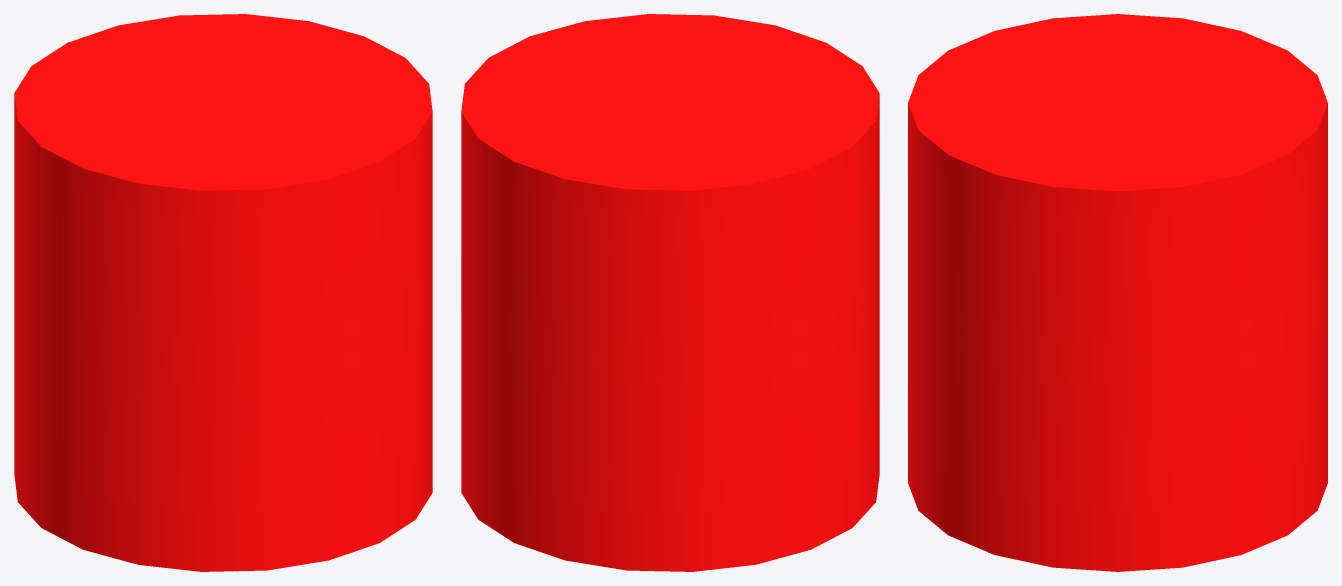
Rendered from 14dcb7d5-0b3d-479b-9f29-abe2927f4455.glb.
3 renders of one model, left to right at view 1: azimuth 30°, elevation 25°; view 2: azimuth 150°, elevation 25°; view 3: azimuth 270°, elevation 25°, orthographic.
Parts seen in each view (by area): view 1: BaseCylinder.001; view 2: BaseCylinder.001; view 3: BaseCylinder.001.
Part boxes in pixels (bbox=[...]): BaseCylinder.001: bbox=[14, 14, 432, 571]; BaseCylinder.001: bbox=[461, 14, 879, 571]; BaseCylinder.001: bbox=[908, 14, 1327, 571].
Size of what is drawn, in the model's own units: 0.7489 by 0.7489 by 0.7489.
1 material, 1 textured.
